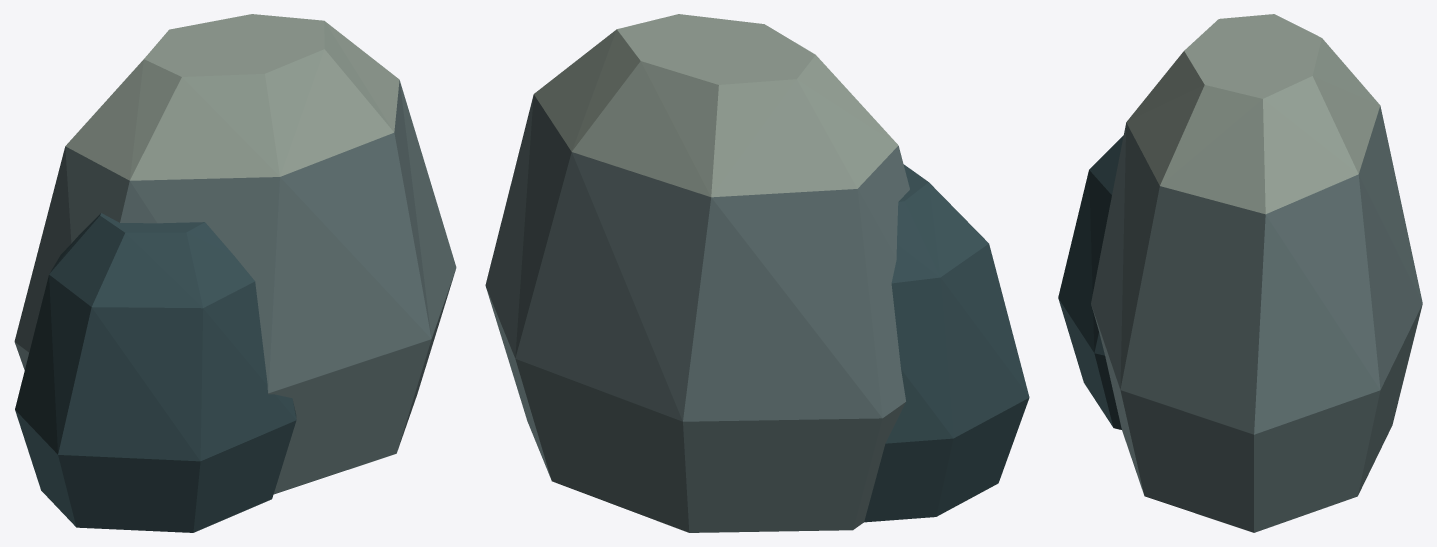
Rendered from cliff-small.glb.
3 renders of one model, left to right at view 1: azimuth 30°, elevation 25°; view 2: azimuth 150°, elevation 25°; view 3: azimuth 270°, elevation 25°, orthographic. The views are drawn at different scales.
Parts seen in each view (by area): view 1: cliff-small__body; view 2: cliff-small__body; view 3: cliff-small__body.
Boxes of the visible parts, x1,y1,x2,y2 form: cliff-small__body: (14,14,456,532); cliff-small__body: (485,14,1029,532); cliff-small__body: (1058,14,1422,532).
Bounding box in the file's own units: 1.57 × 1.3 × 1.1.
